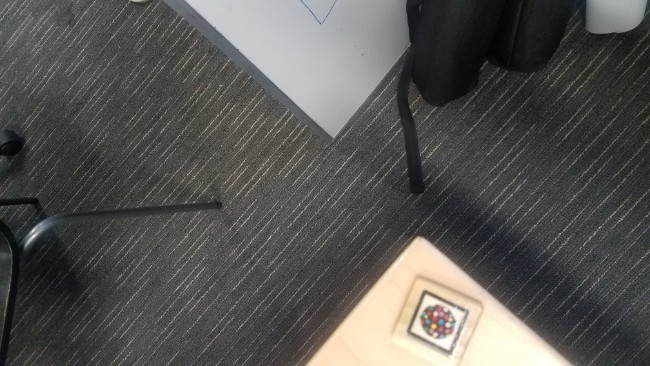cookie: (390, 278, 486, 363)
